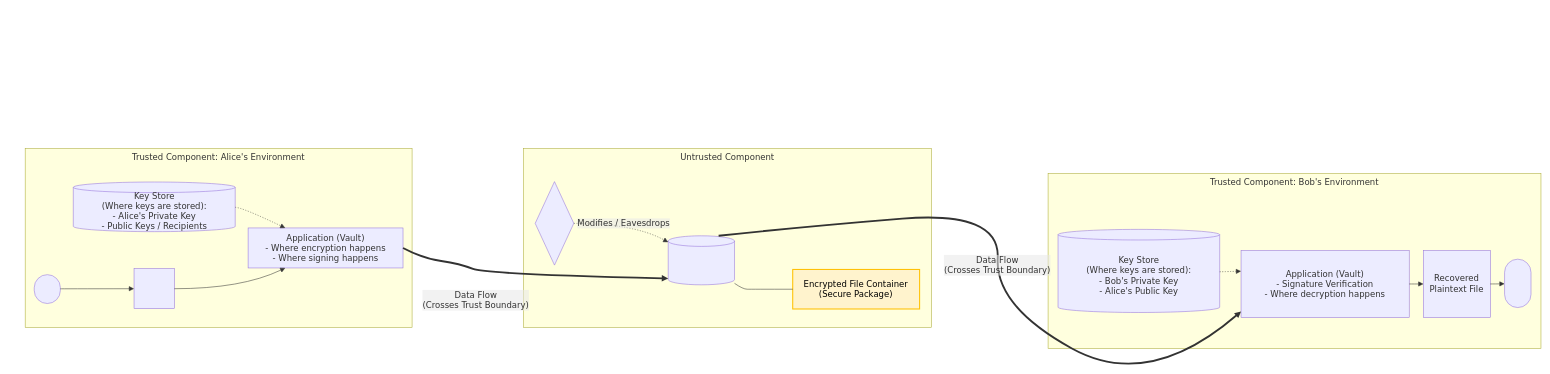
This 1550x374 diagram has some shape labels left out. Here are the shapes that lost their labels. From the top down, the centre of each, then its label:
At point (554, 223): "Attacker".
At point (701, 260): "Storage (local or remote)".
At point (47, 289): "User: Alice".
At point (154, 288): "Plaintext File".
At point (1517, 283): "User: Bob".
